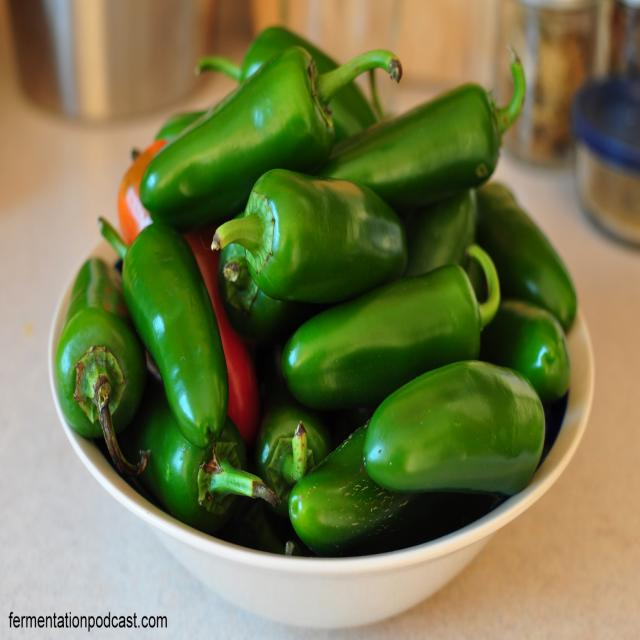aji: (43, 34, 598, 573)
